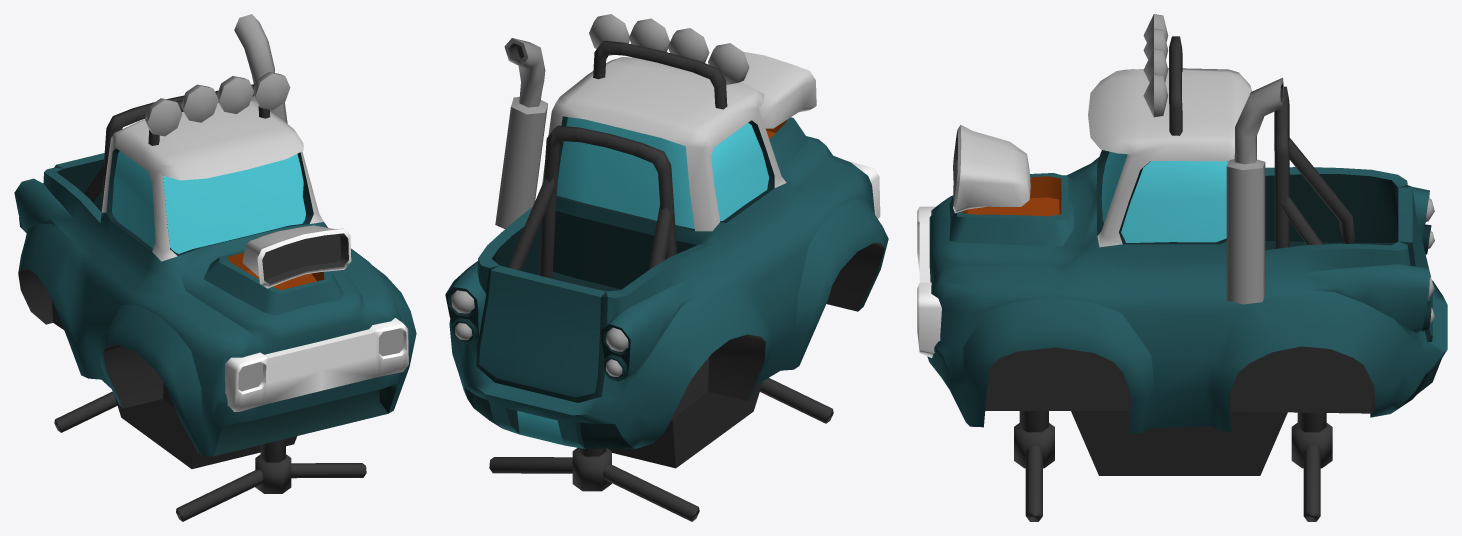
Rendered from Monster_body.fbx.
3 views of the same model, side by side, from view 1: azimuth 30°, elevation 25°; view 2: azimuth 150°, elevation 25°; view 3: azimuth 270°, elevation 25° (orthographic). The views are drawn at different scales.
Visible parts, largest first — view 1: monster_body, headlights_front; view 2: monster_body, brakelights_rear; view 3: monster_body, headlights_front.
Boxes of the visible parts, left/top/right/bottom form: monster_body: left=14, top=14, right=416, bottom=521; headlights_front: left=147, top=73, right=403, bottom=391; monster_body: left=445, top=14, right=888, bottom=521; brakelights_rear: left=451, top=290, right=628, bottom=351; monster_body: left=917, top=14, right=1447, bottom=521; headlights_front: left=1143, top=14, right=1153, bottom=116.
Bounding box in the file's own units: 256 × 364 × 399.
